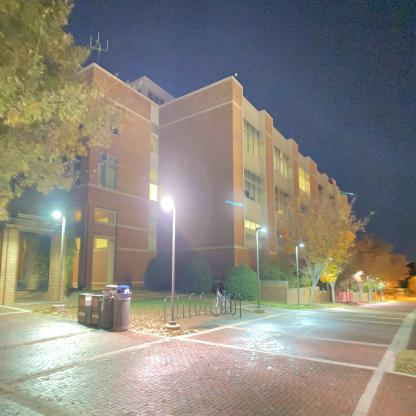eb3: (38, 48, 394, 312)
